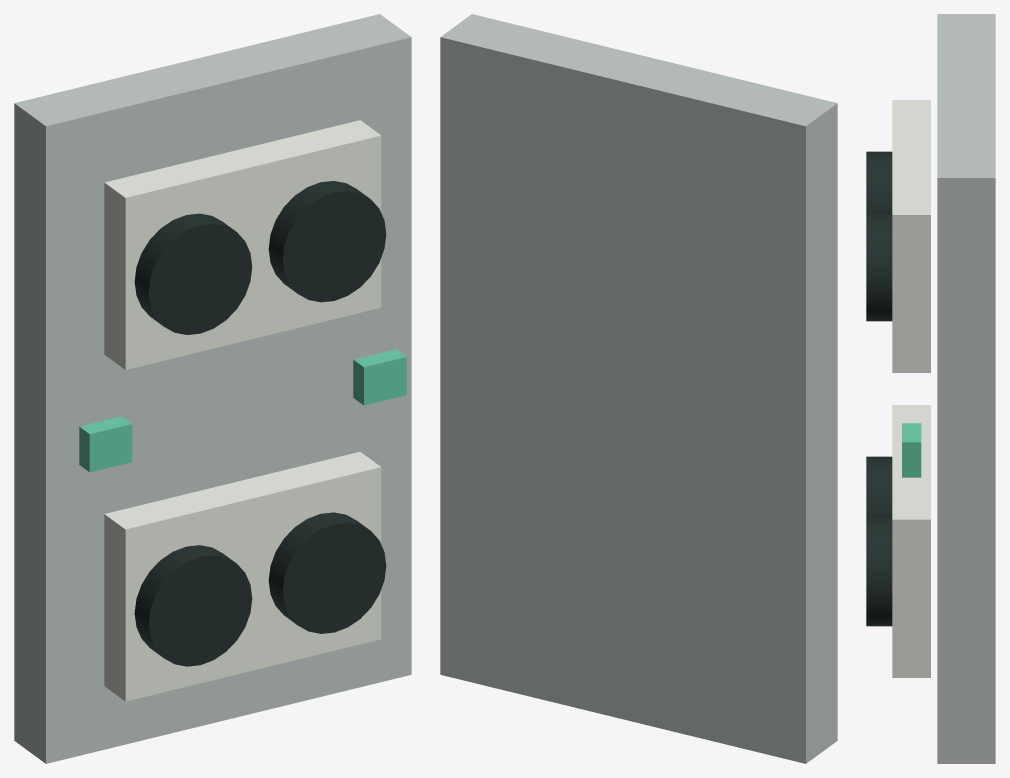
3 views of the same model, side by side, from view 1: azimuth 30°, elevation 25°; view 2: azimuth 150°, elevation 25°; view 3: azimuth 270°, elevation 25° (orthographic). The views are drawn at different scales.
Parts seen in each view (by area): view 1: back-plate, lower-panel, upper-panel, lower-left, lower-right, upper-left, upper-right, status-led (×2); view 2: back-plate; view 3: back-plate, upper-panel, lower-panel, lower-right, upper-right, upper-left, lower-left, status-led.
Part boxes in pixels (bbox=[...]): back-plate: bbox=[14, 14, 411, 763]; lower-panel: bbox=[104, 451, 381, 701]; upper-panel: bbox=[104, 120, 381, 369]; lower-left: bbox=[134, 545, 252, 666]; lower-right: bbox=[268, 512, 386, 633]; upper-left: bbox=[134, 213, 252, 334]; upper-right: bbox=[268, 181, 386, 302]; status-led (×2): bbox=[79, 349, 406, 472]; back-plate: bbox=[440, 14, 837, 763]; back-plate: bbox=[937, 14, 995, 763]; upper-panel: bbox=[892, 100, 930, 372]; lower-panel: bbox=[892, 405, 930, 677]; lower-right: bbox=[866, 516, 892, 626]; upper-right: bbox=[866, 212, 892, 321]; upper-left: bbox=[866, 151, 892, 211]; lower-left: bbox=[866, 456, 892, 516]; status-led: bbox=[902, 423, 921, 477].
Bounding box in the file's own units: 0.12 × 0.2 × 0.04.
